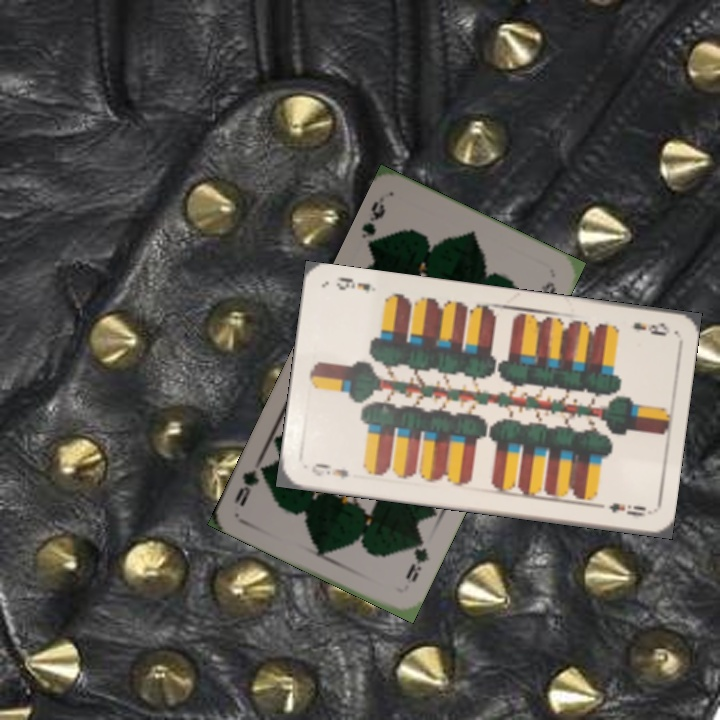E9: (307, 459, 351, 481), (629, 318, 672, 338)
G9: (357, 197, 388, 252), (401, 533, 433, 585)
